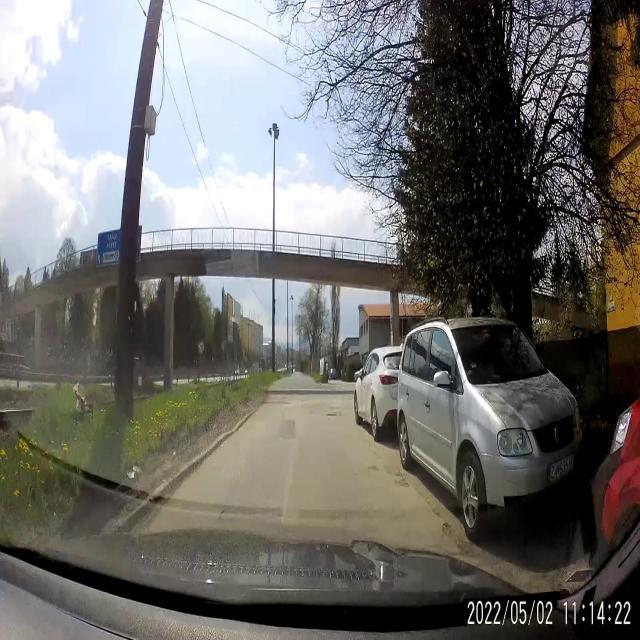Pothole: (440, 518, 463, 550), (276, 418, 300, 442), (322, 410, 346, 423), (394, 471, 410, 488), (368, 462, 383, 472)
